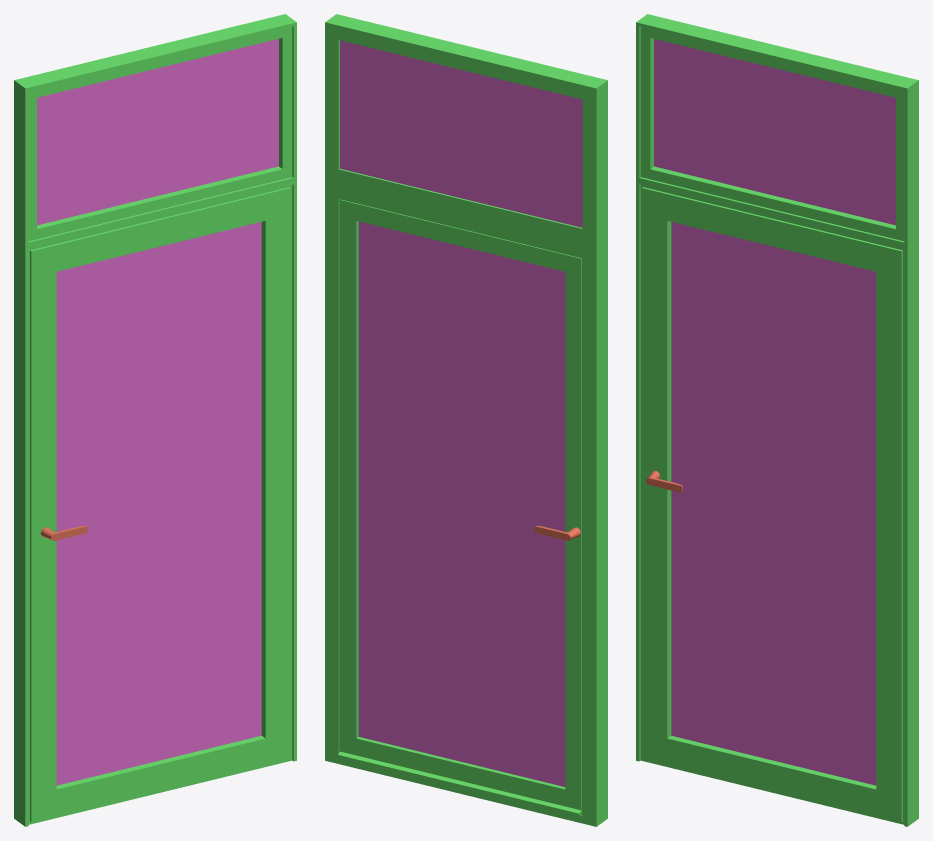
The model's file is door_plastik.fbx.
The picture shows the model from 3 angles, left to right: view 1: azimuth 30°, elevation 25°; view 2: azimuth 150°, elevation 25°; view 3: azimuth 330°, elevation 25°; orthographic projection.
Parts seen in each view (by area): view 1: Doors_Swing_Strugal_S72-RPC_One-Leaf-Fixed-Top_INT Door_a9f.; view 2: Doors_Swing_Strugal_S72-RPC_One-Leaf-Fixed-Top_INT Door_a9f.; view 3: Doors_Swing_Strugal_S72-RPC_One-Leaf-Fixed-Top_INT Door_a9f..
Part boxes in pixels (x1,y1,x2,y2): Doors_Swing_Strugal_S72-RPC_One-Leaf-Fixed-Top_INT Door_a9f.: [14, 14, 296, 826]; Doors_Swing_Strugal_S72-RPC_One-Leaf-Fixed-Top_INT Door_a9f.: [325, 14, 607, 826]; Doors_Swing_Strugal_S72-RPC_One-Leaf-Fixed-Top_INT Door_a9f.: [636, 14, 918, 826].
Bounding box in the file's own units: 100 × 260 × 17.56.
